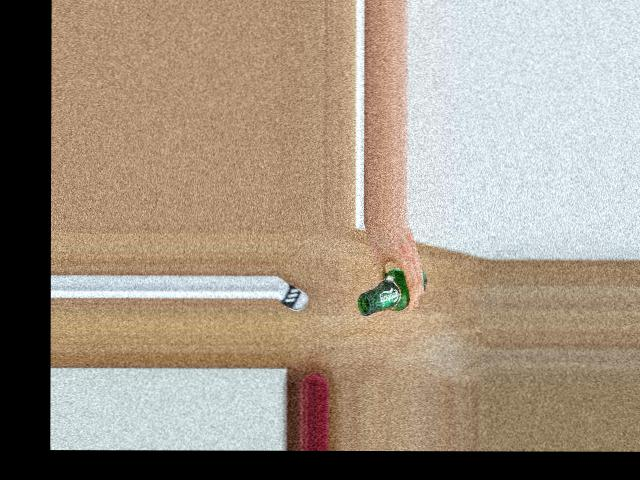beer: (357, 268, 426, 316)
